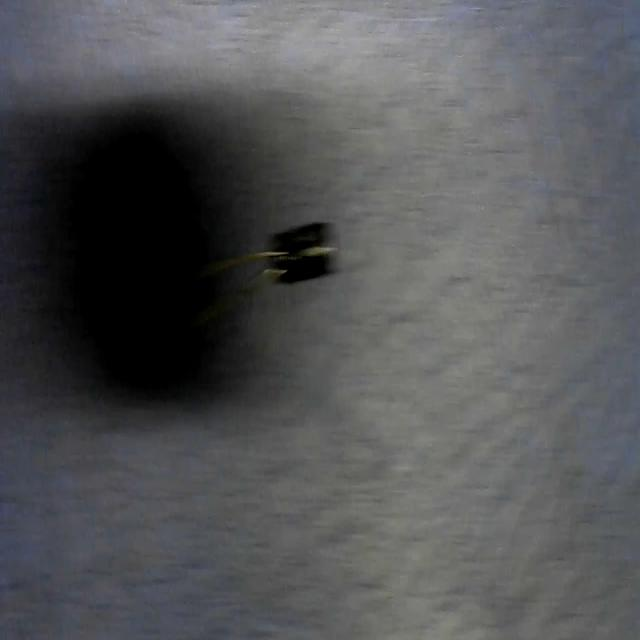LED: (206, 229, 337, 296)
